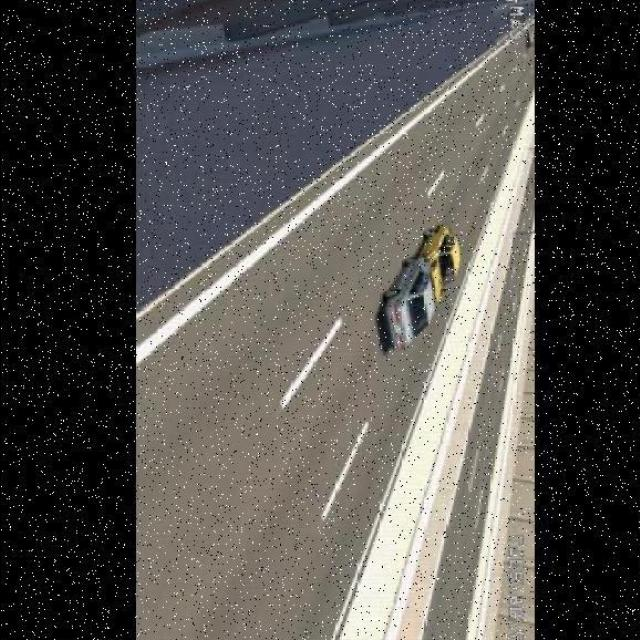accident: (378, 216, 458, 361)
